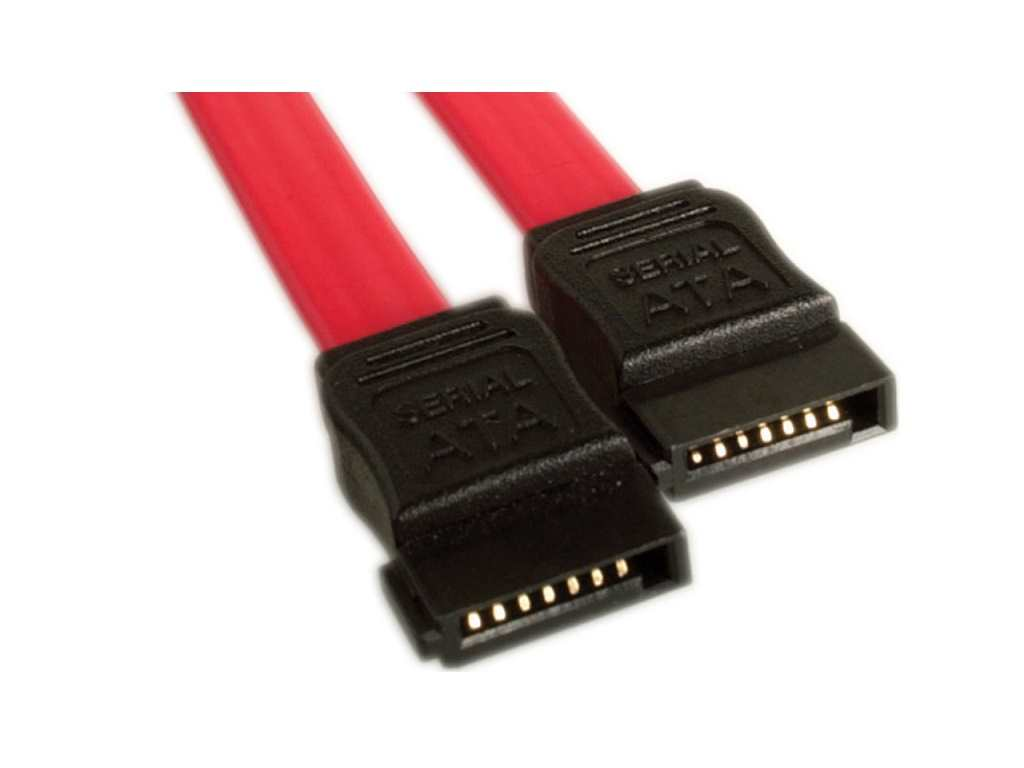SATA Connector: (285, 306, 718, 689)
